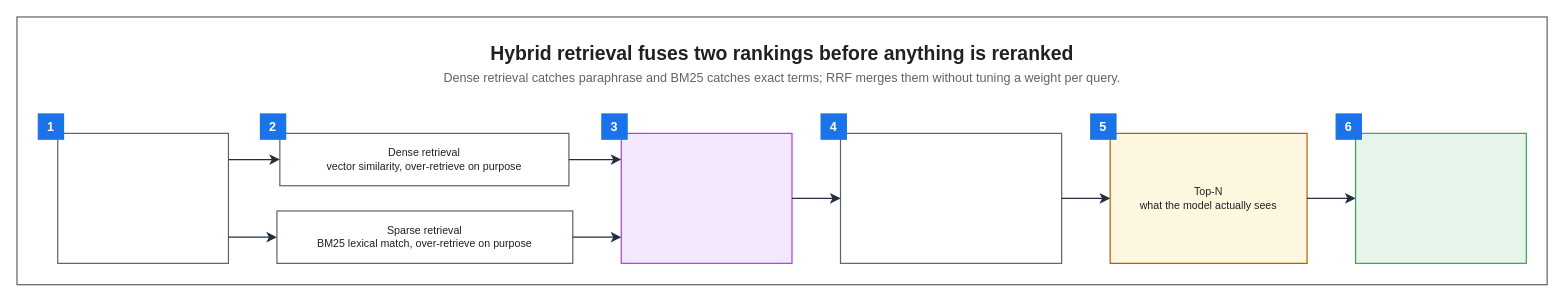
Some shapes in this 1565 by 303 pixel diagram are drawn without their labels. Each missing label, with the centre of its shape:
LLM generation grounded answer: (1440,198)
Reranking cross-encoder over the shortlist: (950,198)
RRF fusion reciprocal rank fusion: (706,198)
User query: (143,198)
